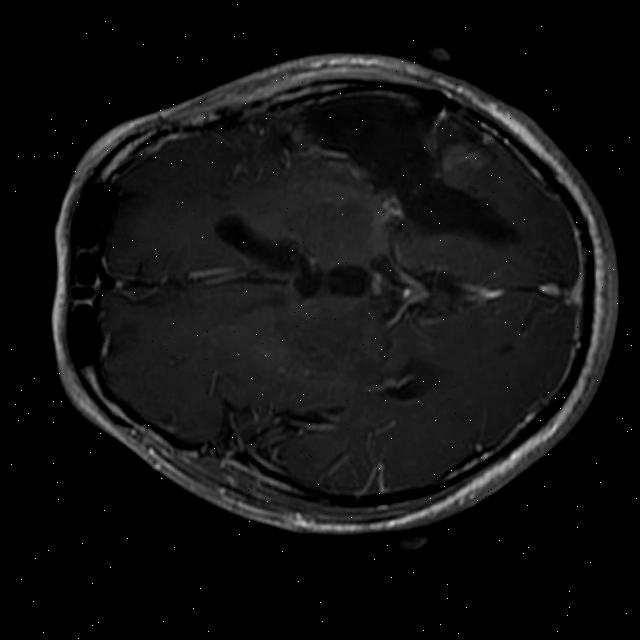Glioma: (287, 89, 536, 252)
